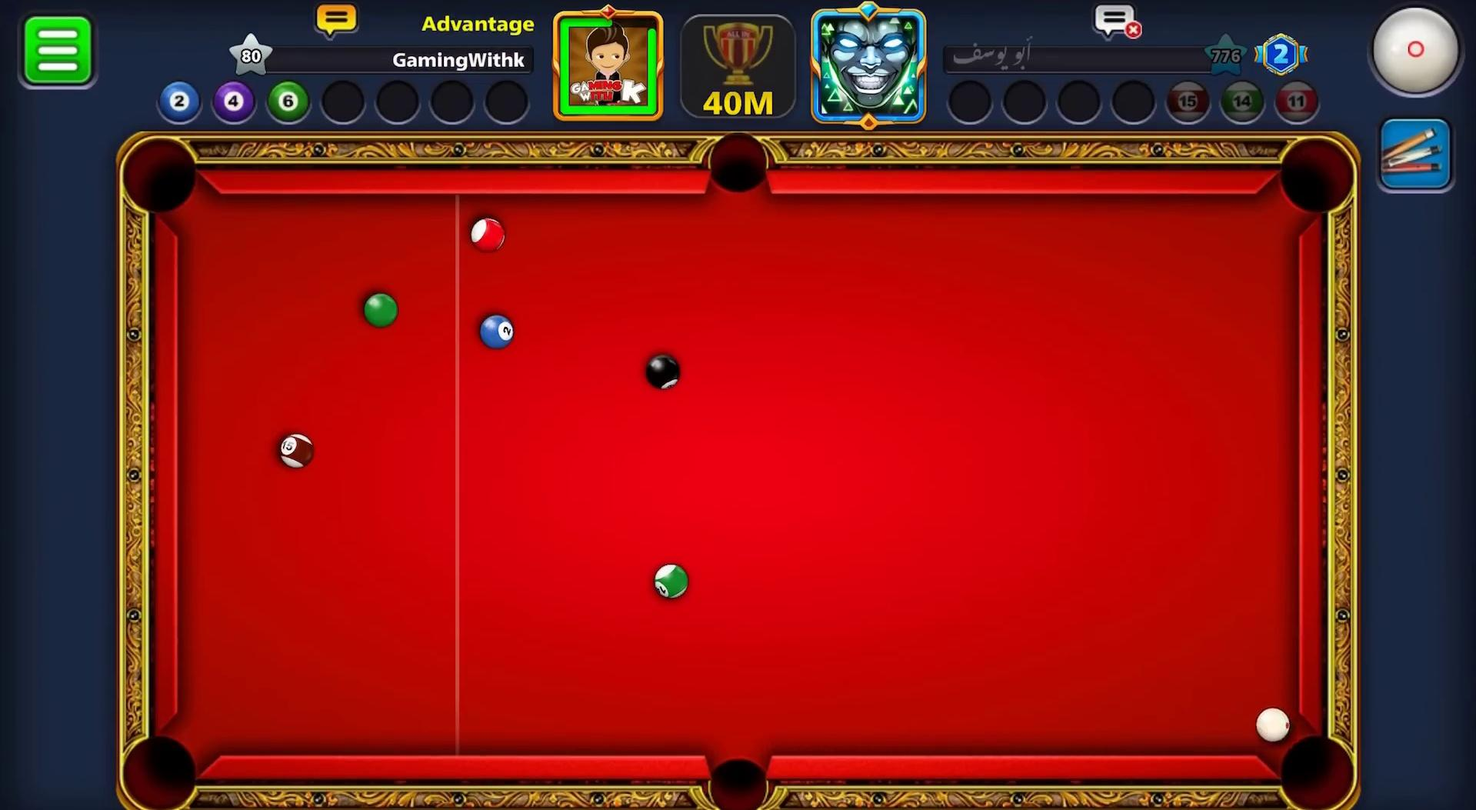Ball: (356, 275, 405, 333), (462, 209, 513, 262), (472, 304, 521, 354), (638, 348, 688, 394), (272, 427, 315, 473), (649, 560, 691, 602)
Hole: (102, 125, 222, 238), (1253, 719, 1376, 809), (686, 125, 789, 212), (1274, 135, 1358, 217), (122, 733, 198, 808), (705, 755, 771, 809)
Play_Area: (179, 192, 1294, 757)
Spin: (1364, 1, 1474, 107)
White: (1249, 703, 1296, 746)
